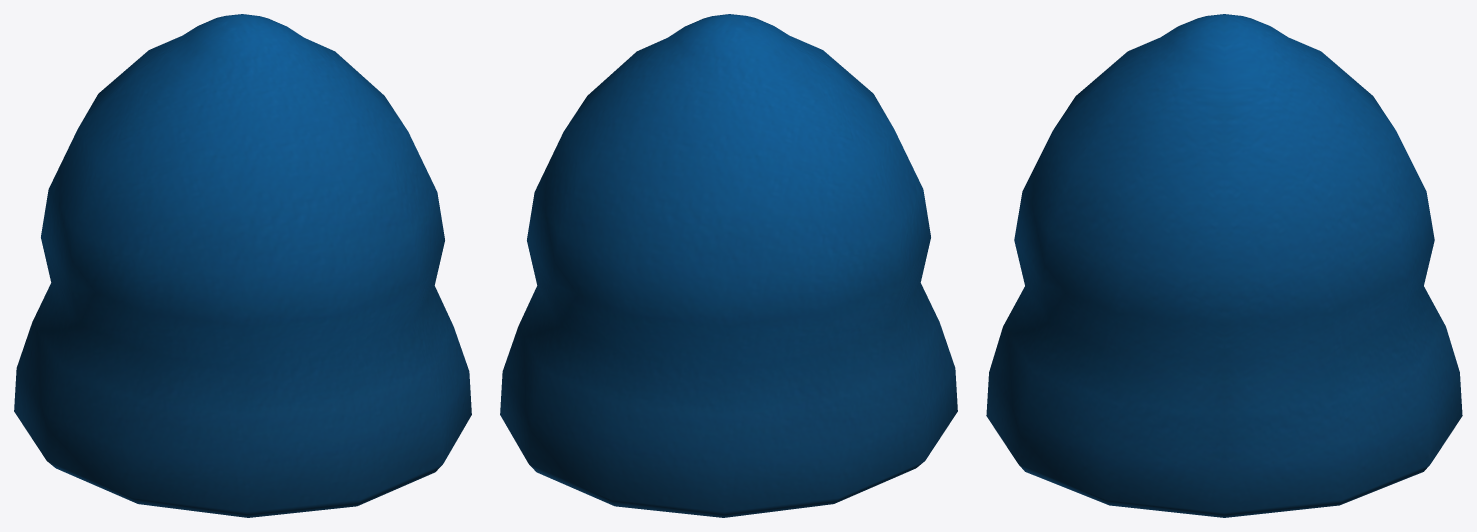
The model's file is Smooth Sponge.fbx.
3 renders of one model, left to right at view 1: azimuth 30°, elevation 25°; view 2: azimuth 150°, elevation 25°; view 3: azimuth 270°, elevation 25°, orthographic.
Parts seen in each view (by area): view 1: Sponge_Smoothie; view 2: Sponge_Smoothie; view 3: Sponge_Smoothie.
Part boxes in pixels (x1,y1,x2,y2): Sponge_Smoothie: (14,14,471,517); Sponge_Smoothie: (500,14,957,517); Sponge_Smoothie: (986,14,1462,517).
Bounding box in the file's own units: 4.51 × 4.53 × 4.69.
